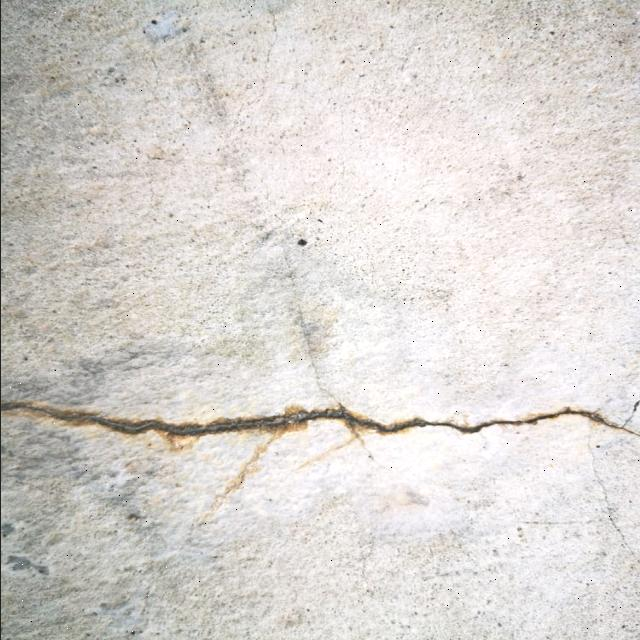crack: (0, 353, 638, 469)
